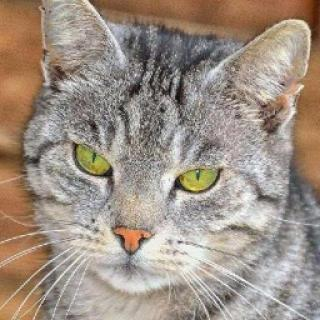cat: (24, 0, 310, 296)
nose: (106, 188, 169, 254)
